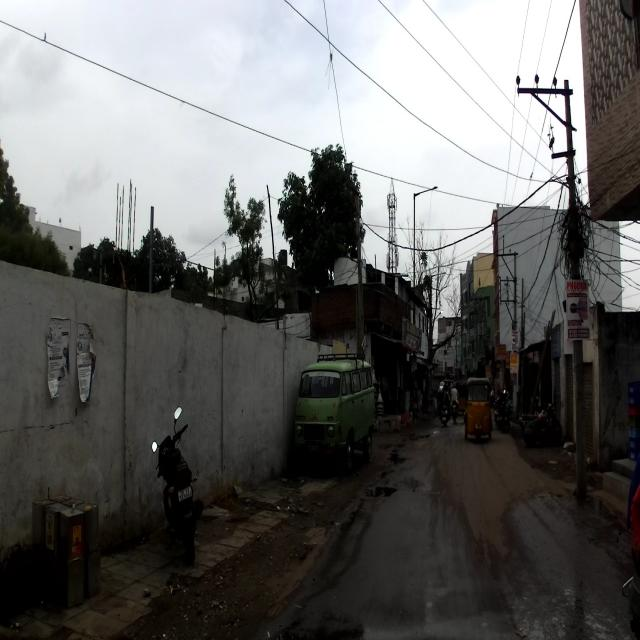motorcycle: (150, 402, 203, 570)
